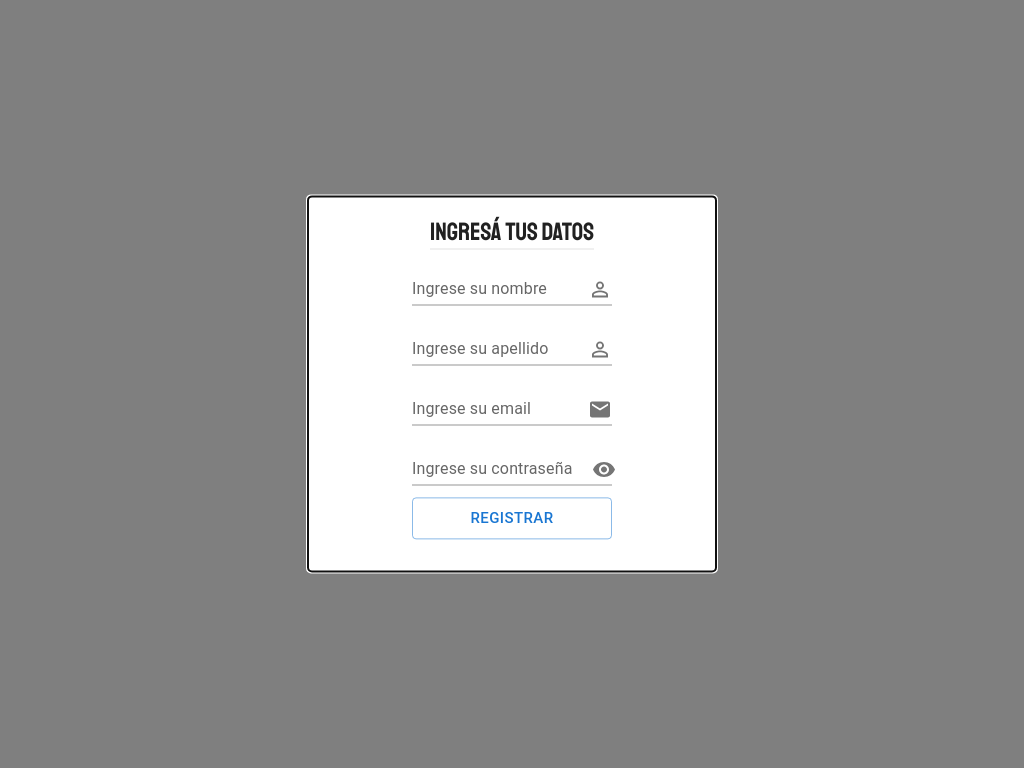
Test case: Dado un usuario, cuando no ingresa datos en ningun input, entonces el mismo error aparece debajo de todos los inputs
What coordinates should you click on to do the following:
click the button with test id "Register-button"
I would click on:
 (512, 519)
Its box is [412,497,612,540].
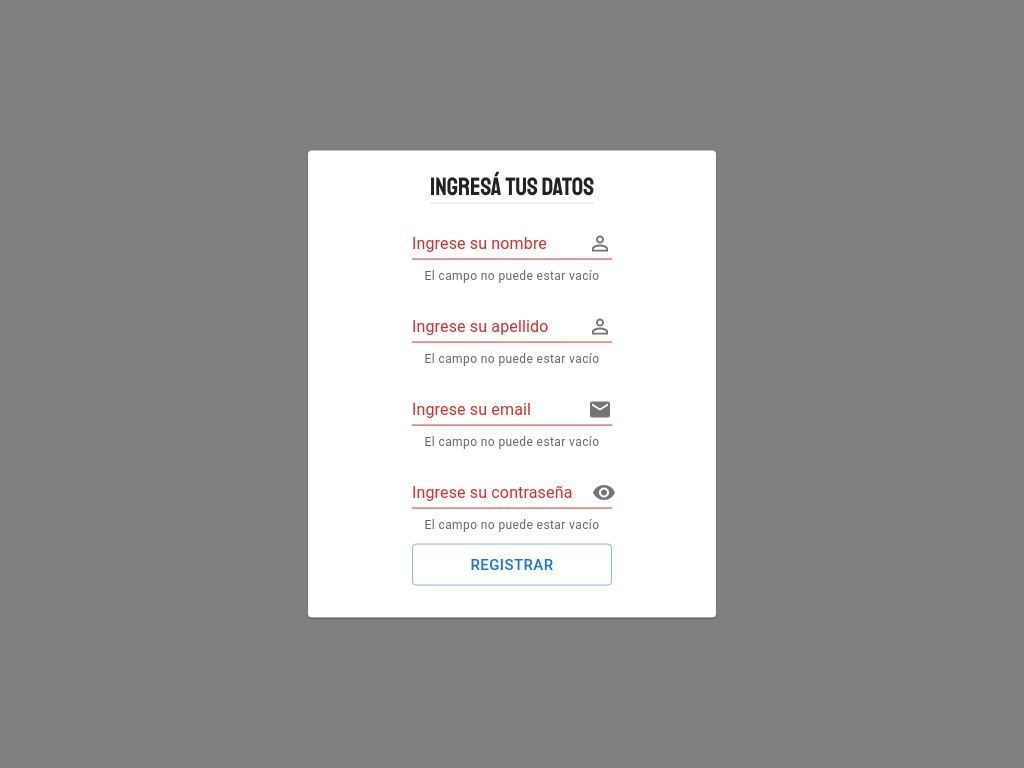
Now the text with test id "Register-name-helper-text" reads "El campo no puede estar vacío", box [424,269,599,283]
Now the text with test id "Register-lastname-helper-text" reads "El campo no puede estar vacío", box [424,352,599,366]
Now the text with test id "Register-email-helper-text" reads "El campo no puede estar vacío", box [424,434,599,448]
